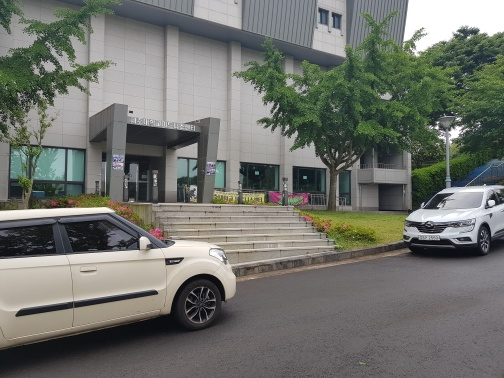Gym: (51, 3, 416, 214), (93, 90, 236, 203)
